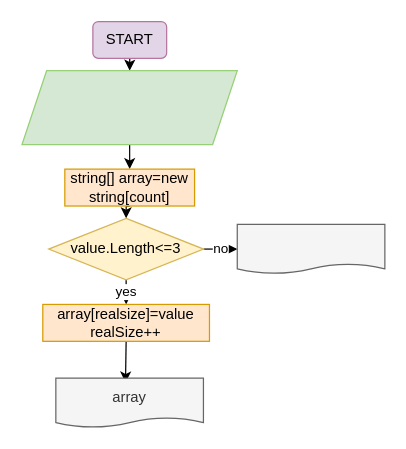
The diagram is 406 pixels wide and 449 high, and some of its shapes have lost their labels. Each missing label, with the centre of its shape:
int count=input of user strings of array=input of user var realSize=0: [129,107]
null: [310,248]
